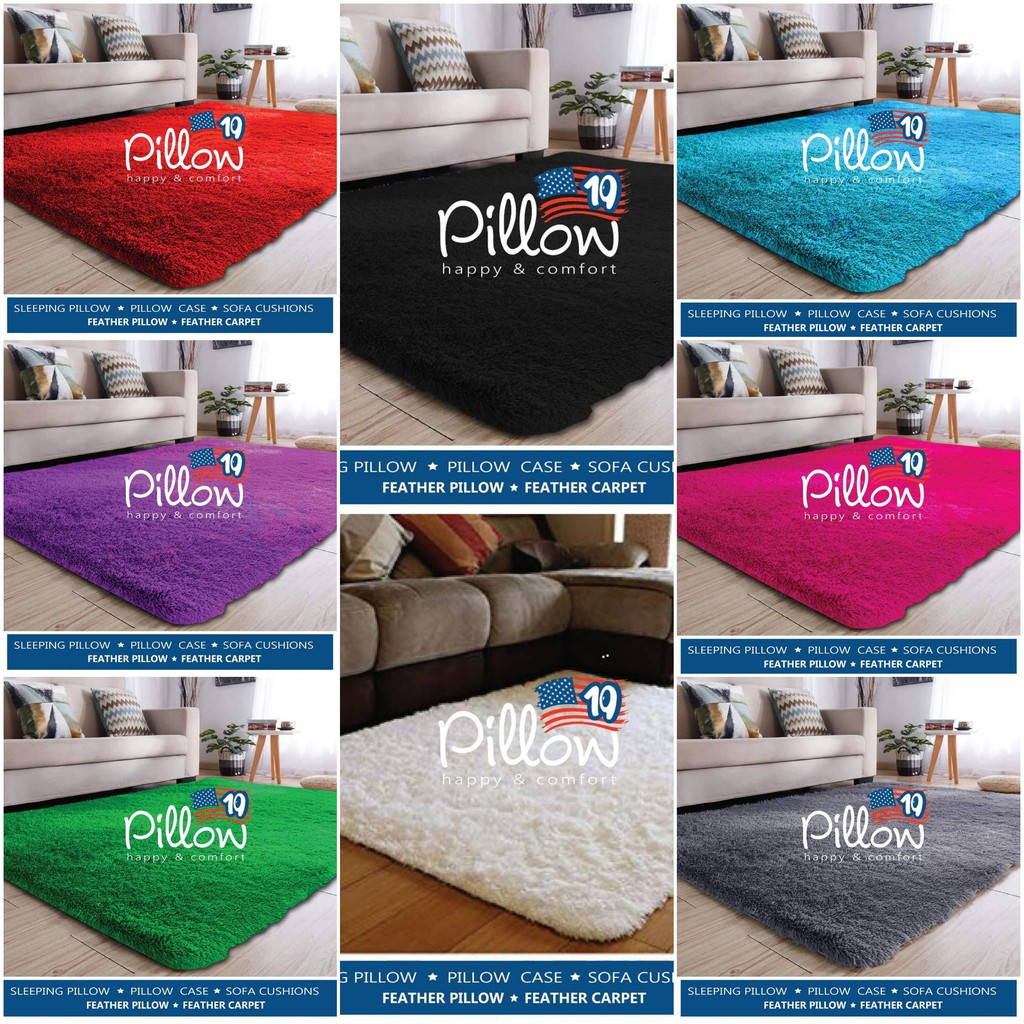bantal: (392, 1010, 1024, 1024), (390, 20, 484, 89), (687, 343, 759, 402), (689, 682, 759, 742), (13, 6, 84, 65), (687, 6, 757, 63), (7, 684, 80, 738), (19, 343, 82, 402), (96, 682, 161, 735), (764, 344, 829, 397), (762, 688, 827, 741), (100, 341, 165, 394), (767, 11, 832, 58), (99, 15, 148, 65)
tanaman: (888, 727, 926, 781), (205, 48, 243, 99), (209, 726, 245, 777), (887, 382, 921, 434), (890, 49, 923, 98), (209, 388, 241, 437)
